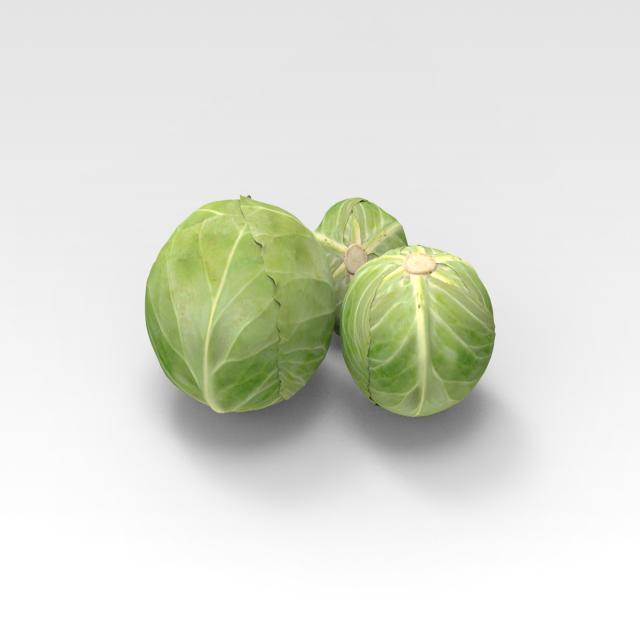cabbage: (141, 192, 337, 430), (340, 238, 498, 437), (304, 196, 435, 346)
